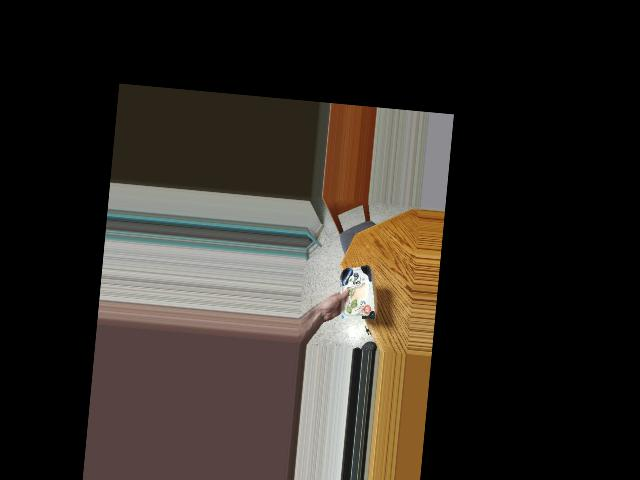cheese: (326, 263, 382, 324)
